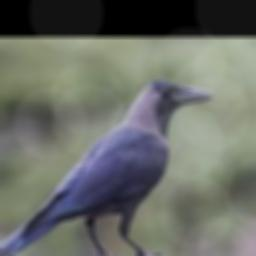Crow: (0, 79, 211, 256)
